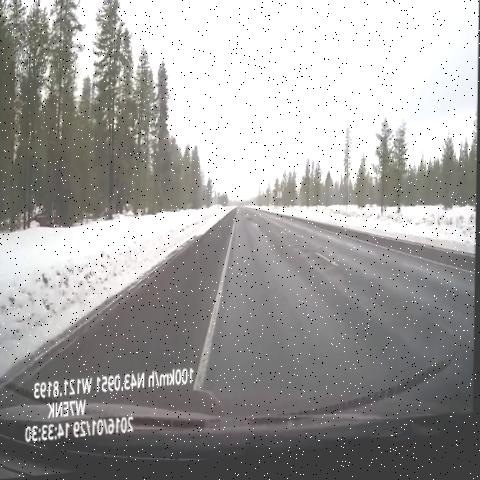pothole: (245, 216, 257, 236)
